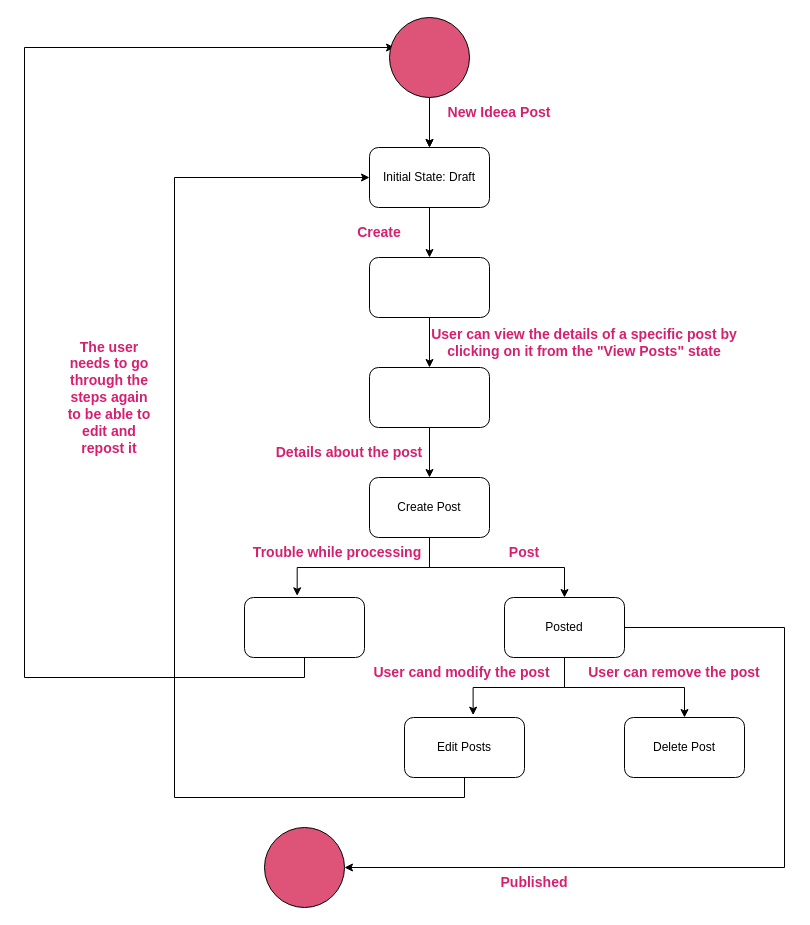
The diagram is 810 pixels wide and 925 high, and some of its shapes have lost their labels. Here are the shapes that lost their labels. From the top down, the centre of each, then its label:
[429,287]: ViewPosts
[429,397]: View Post Details
[304,627]: Error During Posting
